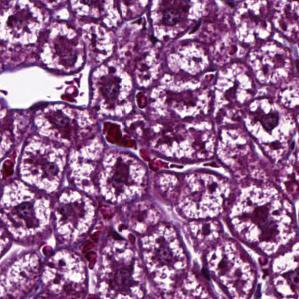inflammation: (232, 184, 289, 249), (98, 152, 143, 198)
